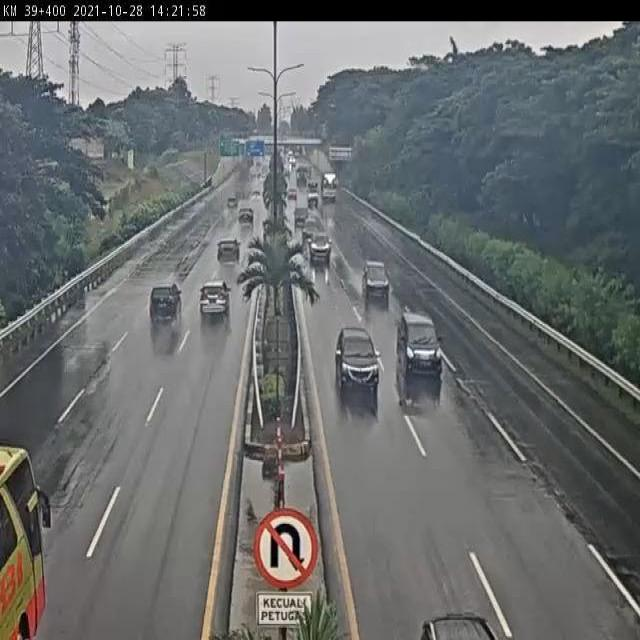big bus: (0, 444, 53, 640)
car: (397, 309, 447, 382), (334, 326, 381, 394), (416, 602, 491, 640), (193, 280, 236, 329), (363, 260, 391, 300), (150, 284, 178, 321), (307, 230, 333, 262), (219, 237, 240, 259), (294, 202, 309, 226), (237, 207, 257, 225)
